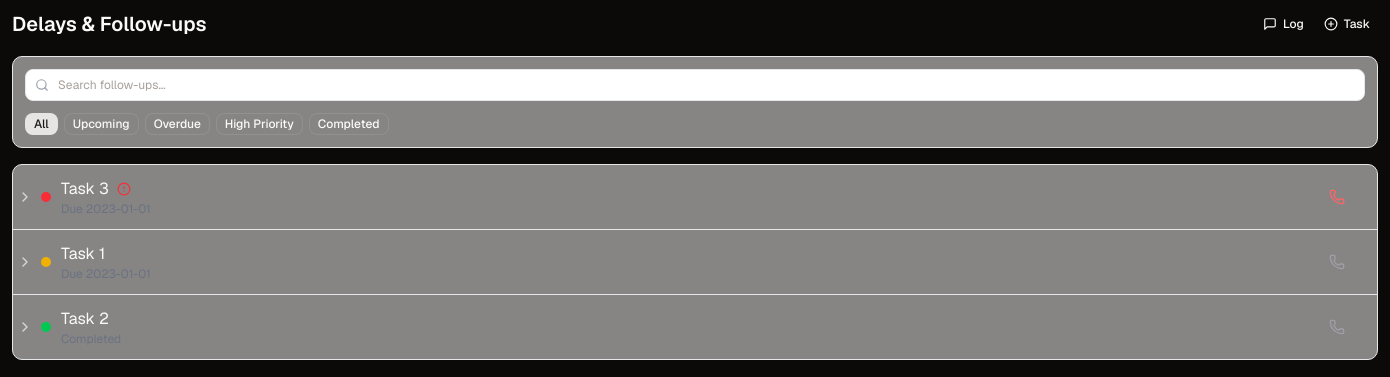
Test case: ClientFollowUps › Filtering › should filter tasks by status
This screenshot has width=1390, height=377.
Check: the text "Task 1" is shown, box top-left (61, 242), bottom-right (105, 266)
Check: the text "Task 2" is shown, box top-left (61, 307), bottom-right (109, 331)
# Click on "High Priority" filter
Click the text "High Priority": (259, 124) top-left (216, 113), bottom-right (303, 135)
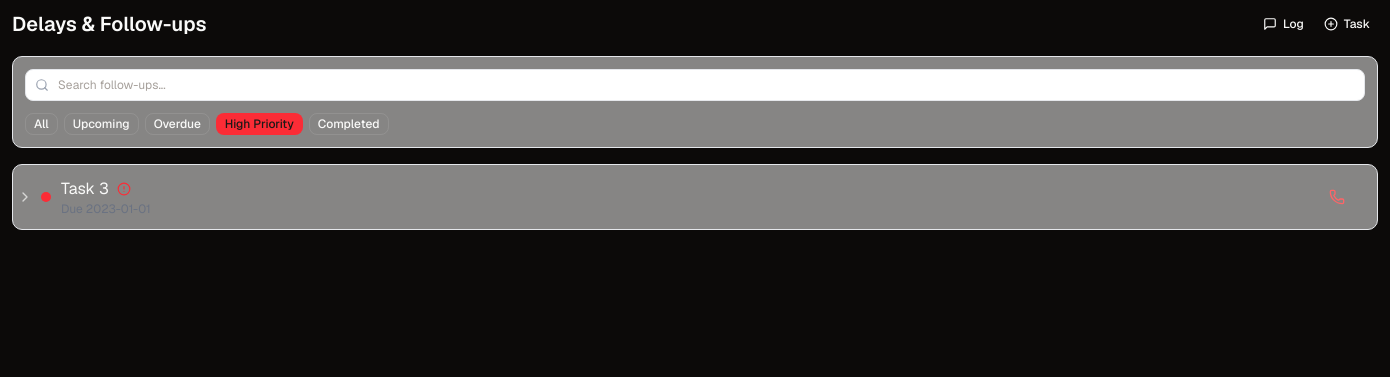
Check: the text "Task 3" is shown, box top-left (61, 177), bottom-right (109, 201)
Check: the text "Task 1" is gone
Check: the text "Task 2" is gone
